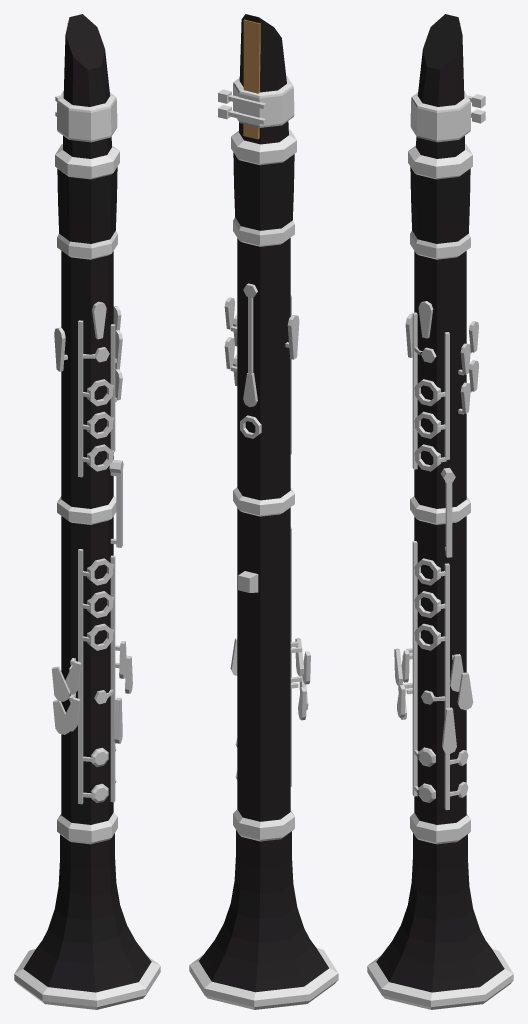
The model's file is clarinet-4e9b0b.glb.
The picture shows the model from 3 angles, left to right: view 1: azimuth 30°, elevation 25°; view 2: azimuth 150°, elevation 25°; view 3: azimuth 330°, elevation 25°; orthographic projection.
Parts seen in each view (by area): view 1: clarinet-body, clarinet-keywork, mouthpiece-mesh, mouthpiece-ligature; view 2: clarinet-body, clarinet-keywork, mouthpiece-mesh, mouthpiece-ligature; view 3: clarinet-body, clarinet-keywork, mouthpiece-mesh, mouthpiece-ligature.
Part boxes in pixels (<box>): clarinet-body: <box>23,167,151,992</box>; clarinet-keywork: <box>14,144,160,1009</box>; mouthpiece-mesh: <box>63,14,111,158</box>; mouthpiece-ligature: <box>55,91,117,142</box>; clarinet-body: <box>199,152,328,992</box>; clarinet-keywork: <box>189,129,338,1009</box>; mouthpiece-mesh: <box>239,14,288,144</box>; mouthpiece-ligature: <box>218,75,294,127</box>; clarinet-body: <box>376,167,504,992</box>; clarinet-keywork: <box>367,144,513,1009</box>; mouthpiece-mesh: <box>416,14,464,158</box>; mouthpiece-ligature: <box>410,91,485,142</box>.
Bounding box in the file's own units: 0.0854 × 0.66 × 0.0854.
